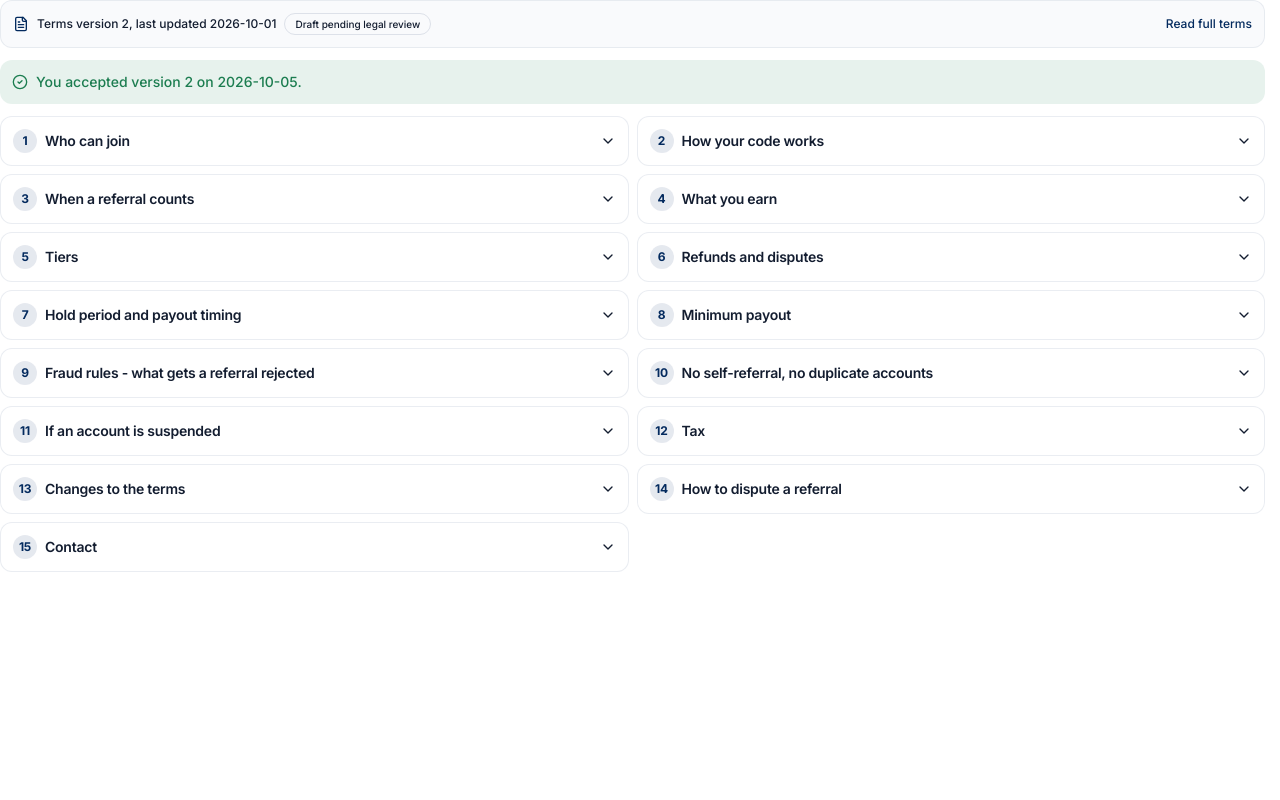
Test: Programme policy cards › 15 numbered cards; every number comes from the settings
Click the button "4 What you earn": (729, 198) [650, 175, 1252, 223]
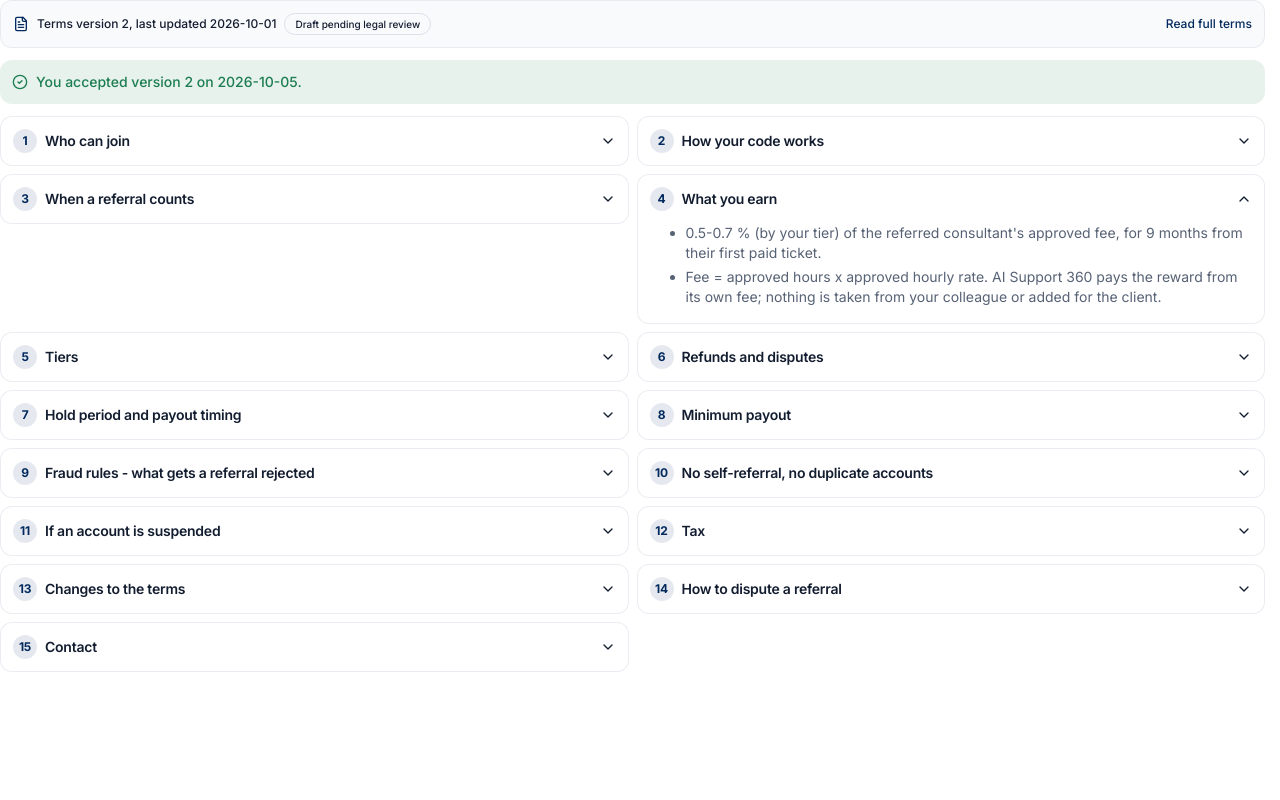
Expected: the list item "0.5-0.7 % (by your tier) of the referred consultant's approved fee, for 9 months" is shown, [686, 224, 1243, 261]
Click the button "7 Hold period and payout timing": (143, 414) [13, 391, 616, 439]
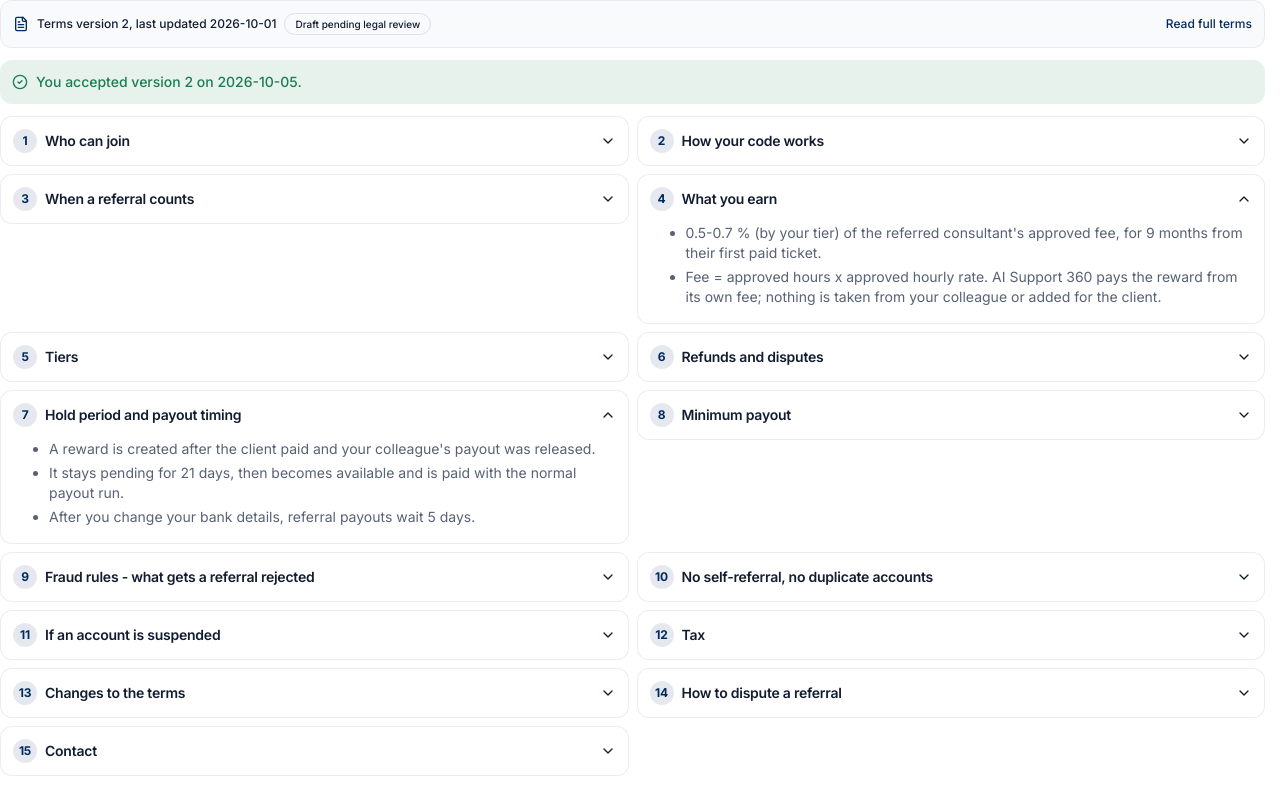
Expected: the list item "stays pending for 21 days" is shown, [49, 464, 576, 501]
Expected: the list item "referral payouts wait 5 days" is shown, [49, 508, 475, 525]
Click the button "8 Minimum payout": (736, 414) [650, 391, 1252, 439]
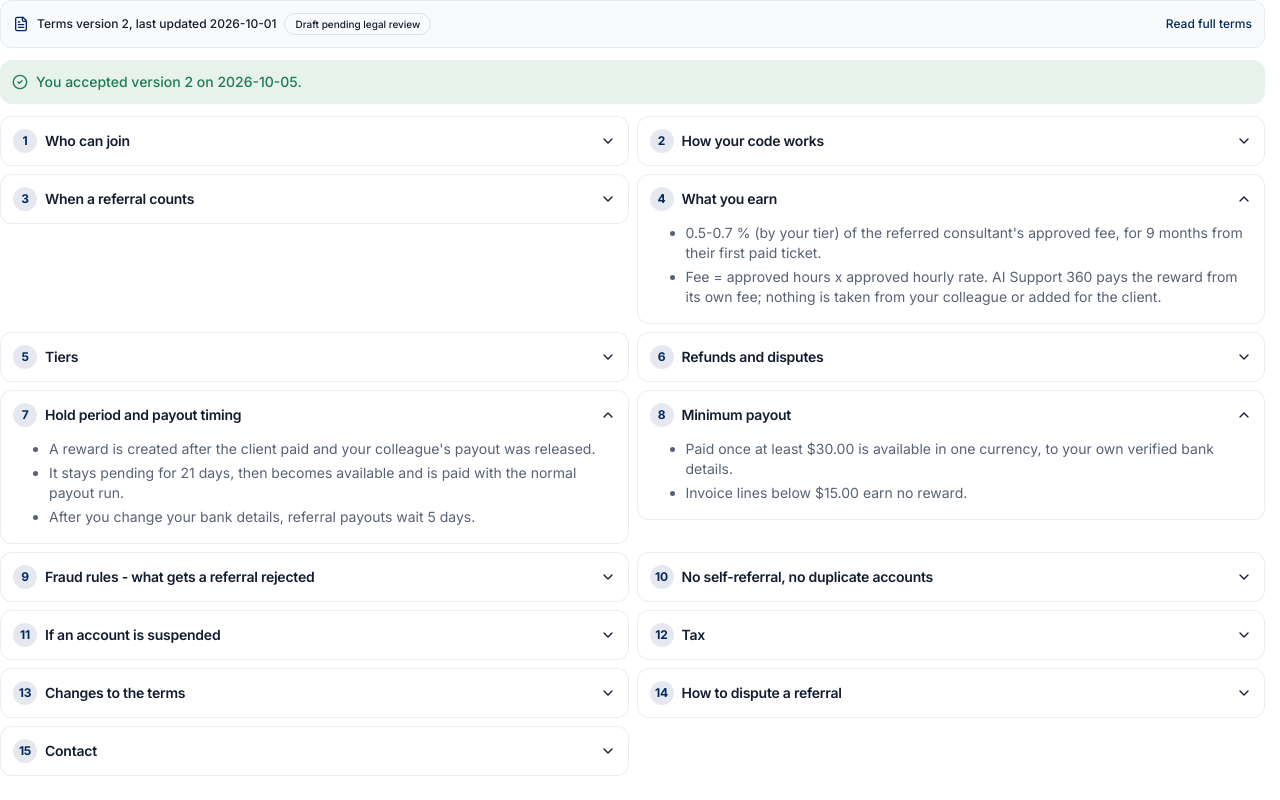
Expected: the list item "at least $30.00 is available" is shown, [686, 440, 1214, 477]
Click the button "3 When a referral counts": (120, 198) [13, 175, 616, 223]
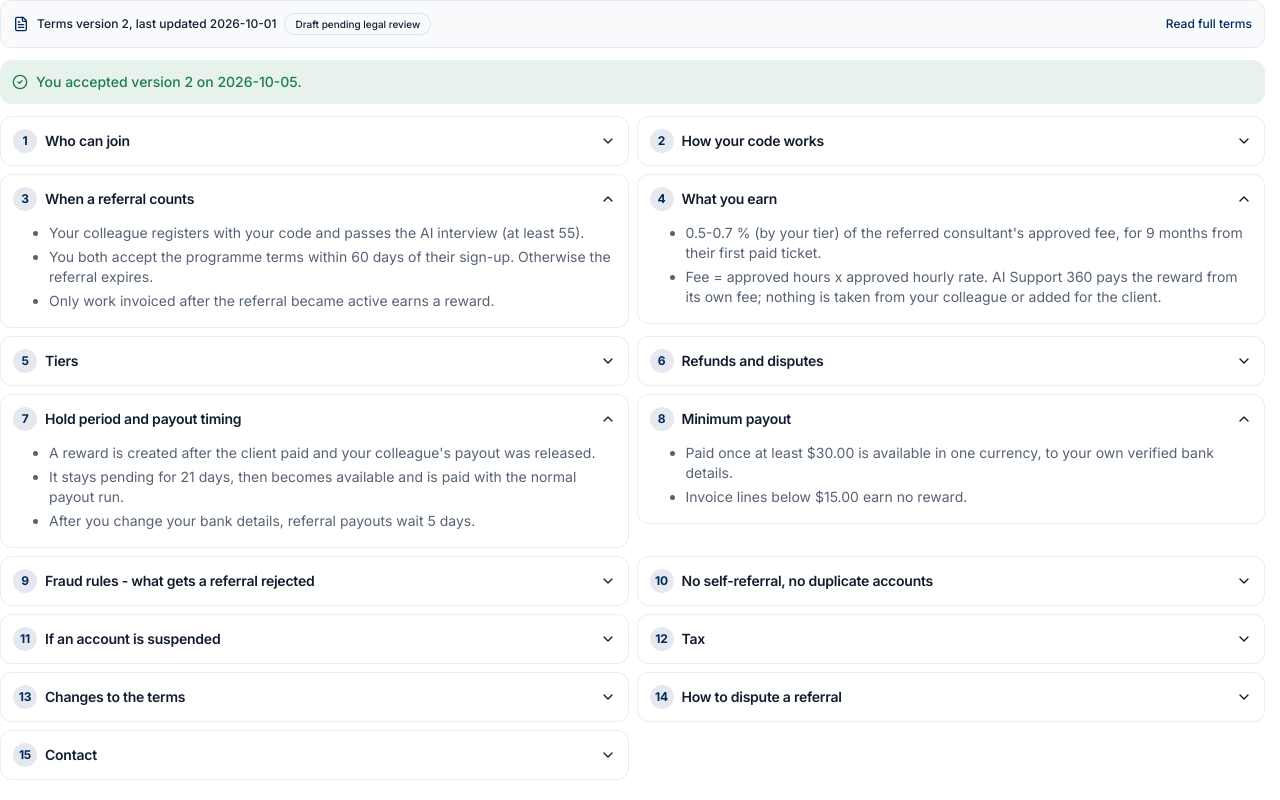
Expected: the text "Draft pending legal review" is shown, [284, 13, 431, 35]
Expected: the list item "within 60 days of their sign-up" is shown, [49, 248, 611, 285]
